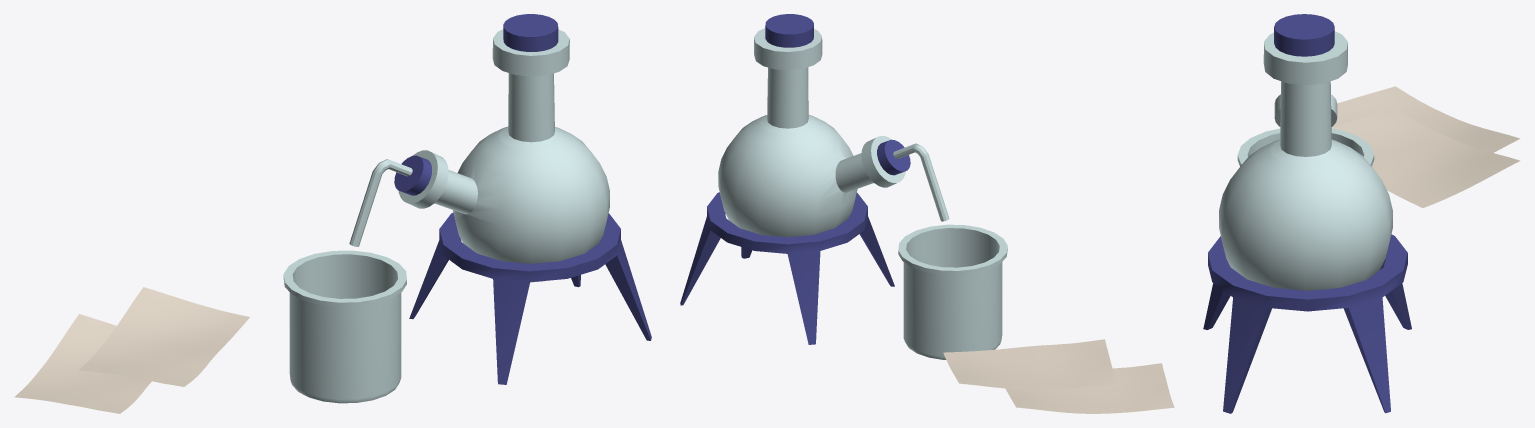
File: materiel_ilot_01.fbx
3 views of the same model, side by side, from view 1: azimuth 30°, elevation 25°; view 2: azimuth 150°, elevation 25°; view 3: azimuth 270°, elevation 25° (orthographic). The views are drawn at different scales.
Parts seen in each view (by area): view 1: pPlane5; view 2: pPlane5; view 3: pPlane5.
Boxes of the visible parts, x1,y1,x2,y2 form: pPlane5: (14, 14, 651, 413); pPlane5: (680, 14, 1174, 413); pPlane5: (1203, 14, 1520, 413).
Bounding box in the file's own units: 221 × 117 × 98.17.
